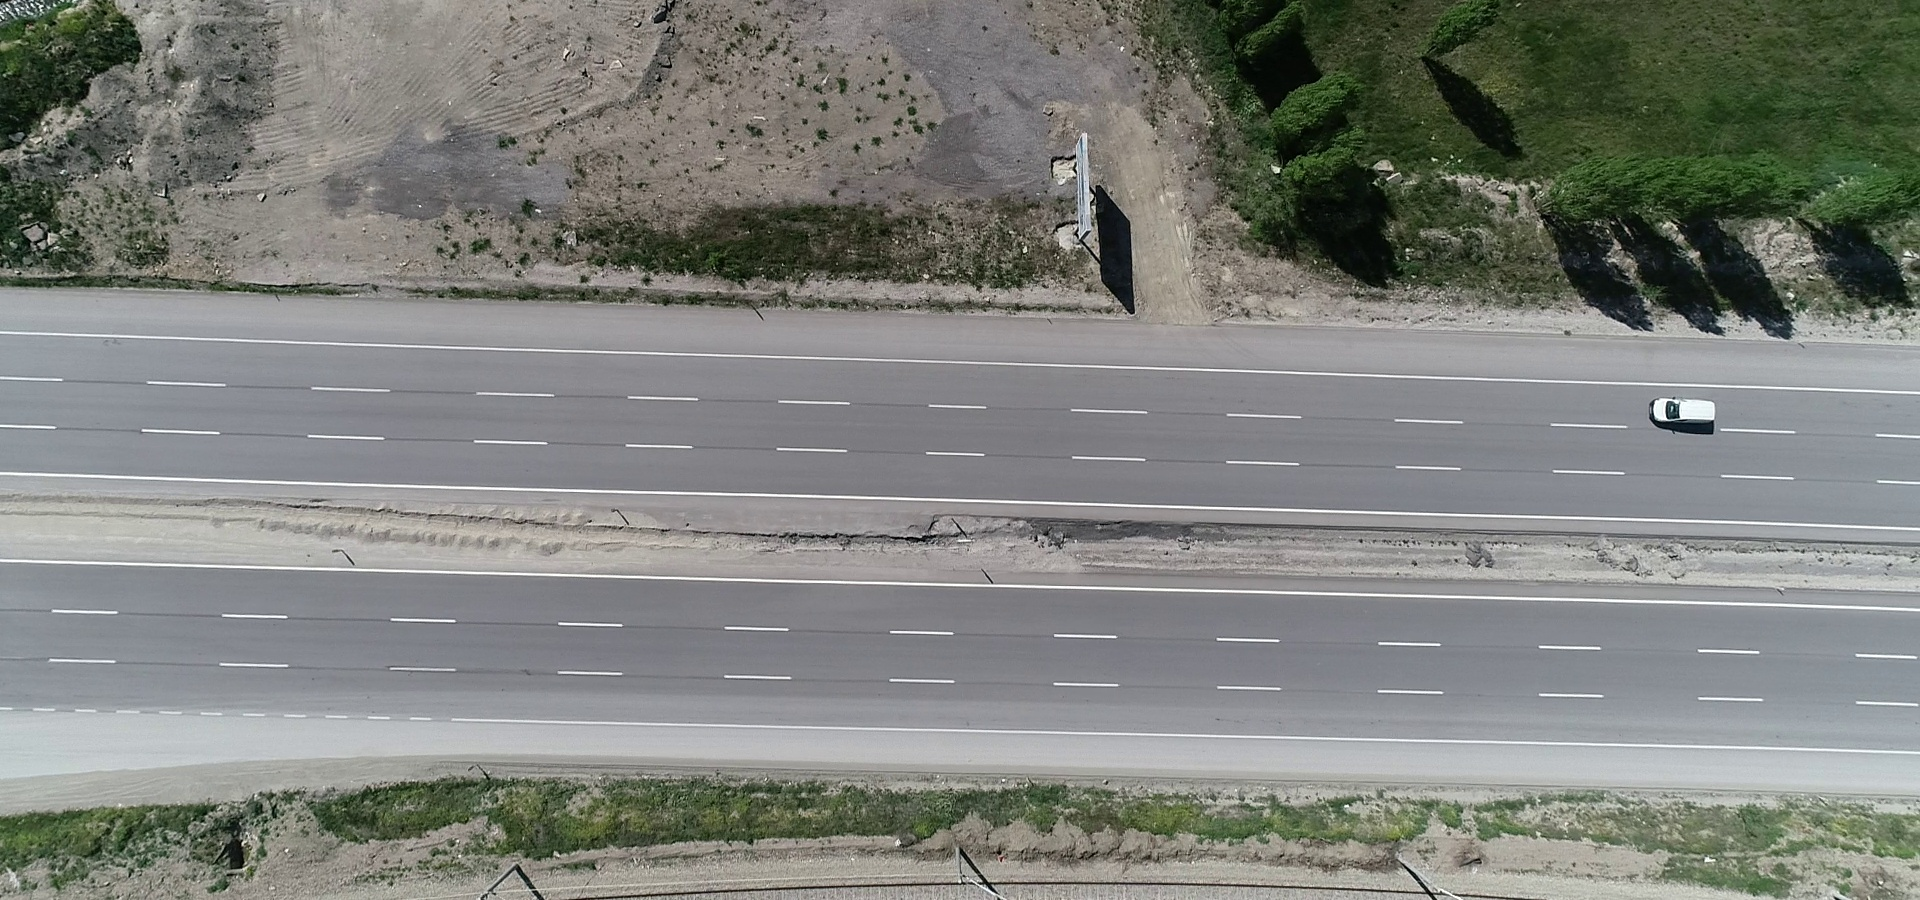araba: (1648, 396, 1730, 429)
